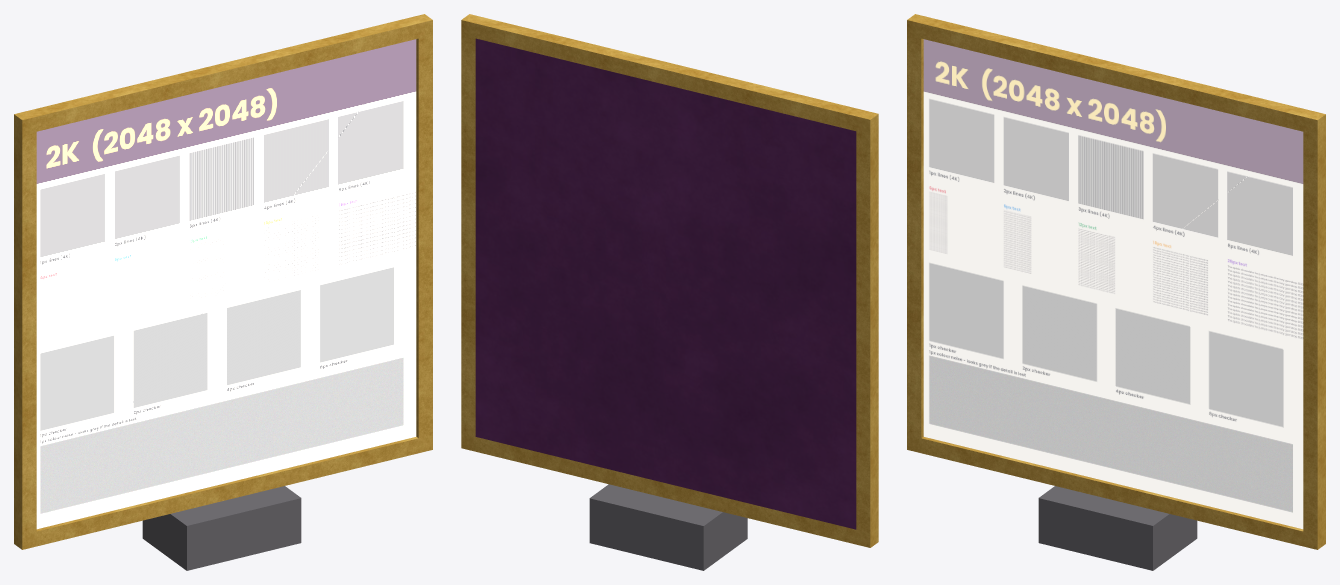
File: tex_test_2k.glb
3 views of the same model, side by side, from view 1: azimuth 30°, elevation 25°; view 2: azimuth 150°, elevation 25°; view 3: azimuth 330°, elevation 25° (orthographic).
Parts seen in each view (by area): view 1: tex_test_2k; view 2: tex_test_2k; view 3: tex_test_2k.
Boxes of the visible parts, x1,y1,x2,y2 form: tex_test_2k: (14,14,432,570); tex_test_2k: (461,14,878,570); tex_test_2k: (907,14,1325,570).
Bounding box in the file's own units: 4.3 × 4.75 × 0.8.
4 materials, 3 textured.
